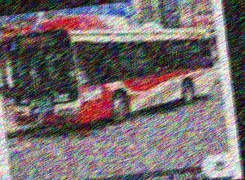bus: (4, 1, 222, 134)
